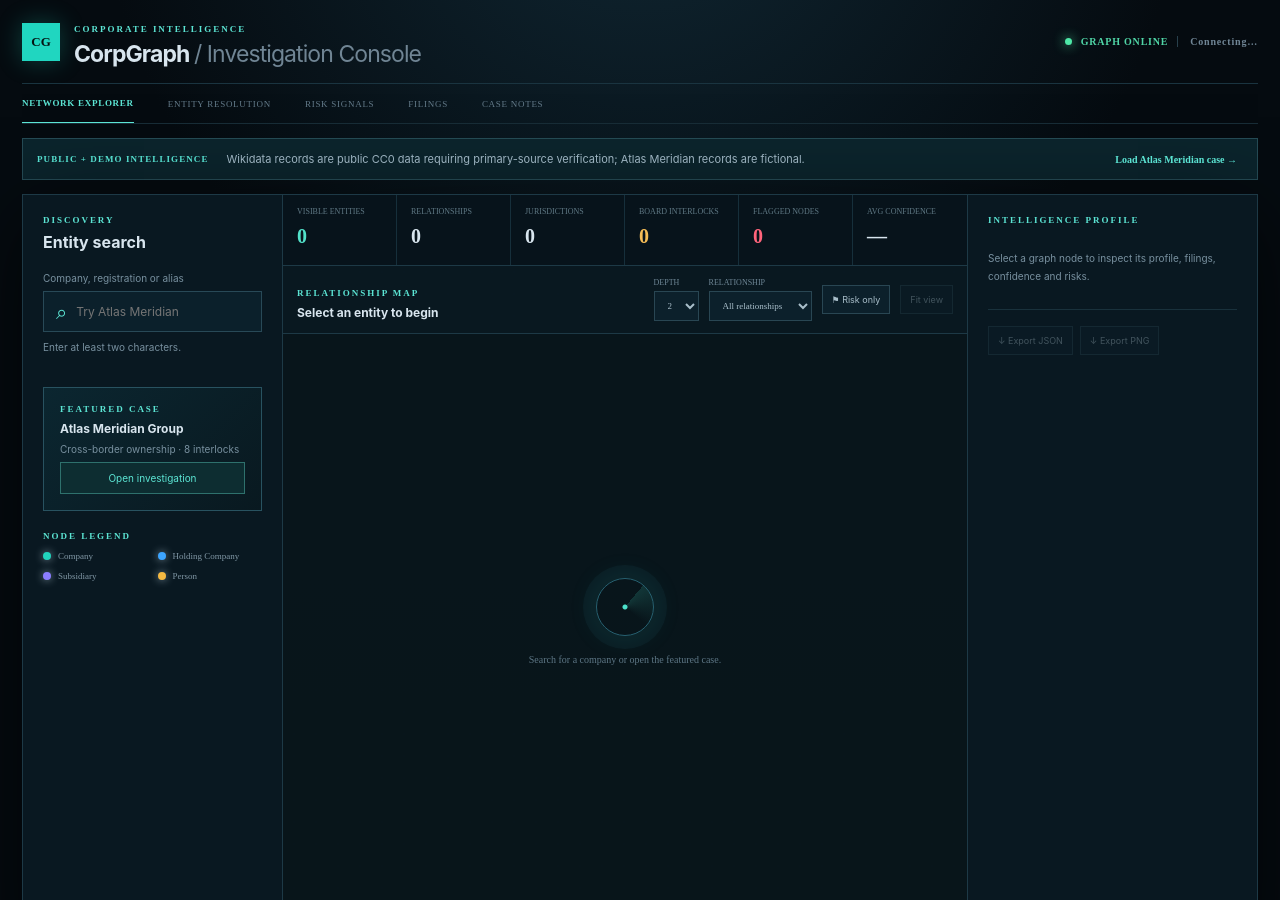
reports search HTTP failures
Type "fail" into the field labelled "Company, registration or alias" at (164, 312), box [67,292,261,331]
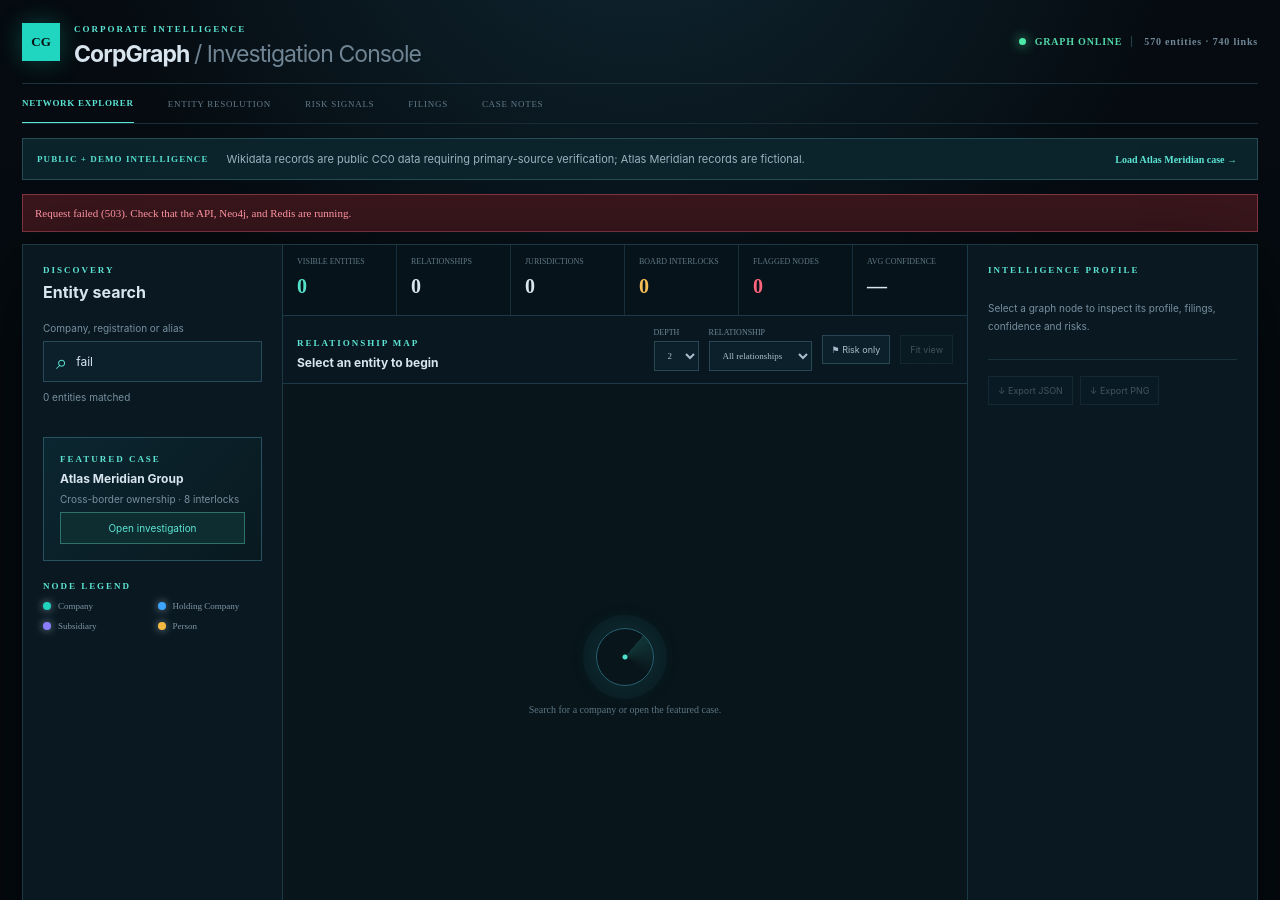
Expected: the message shows "503", [35,207,351,219]
